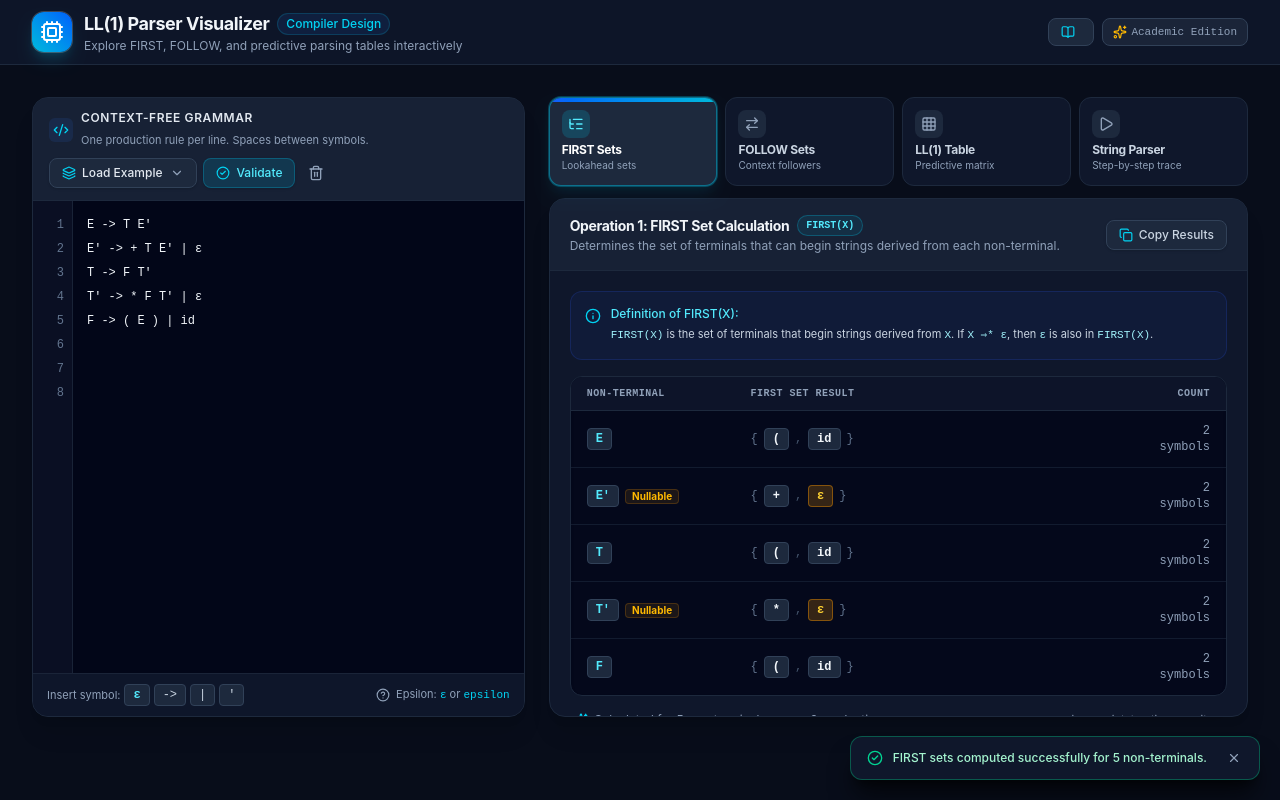
Test case: LL(1) Parser Visualizer UI Integration › switches to Table operation and displays LL(1) Table
What coordinates should you click on to do the following:
click the button "LL(1) Table Predictive matrix"
I would click on:
 (987, 142)
Its box is [902,97,1071,186].
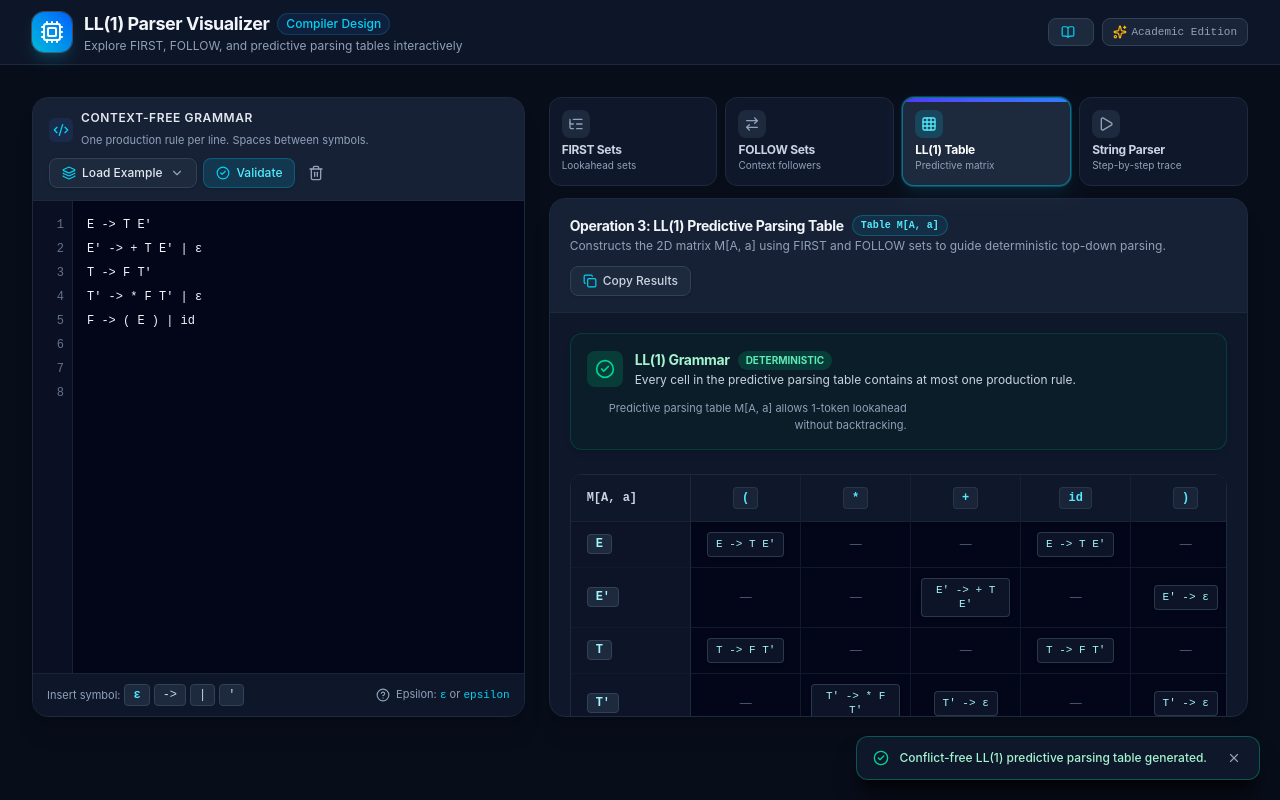
Now the heading "Operation 3: LL(1) Predictive Parsing Table" is shown, box [570,216,844,236]
Now the text "LL(1) Grammar" is shown, box [635,350,730,370]
